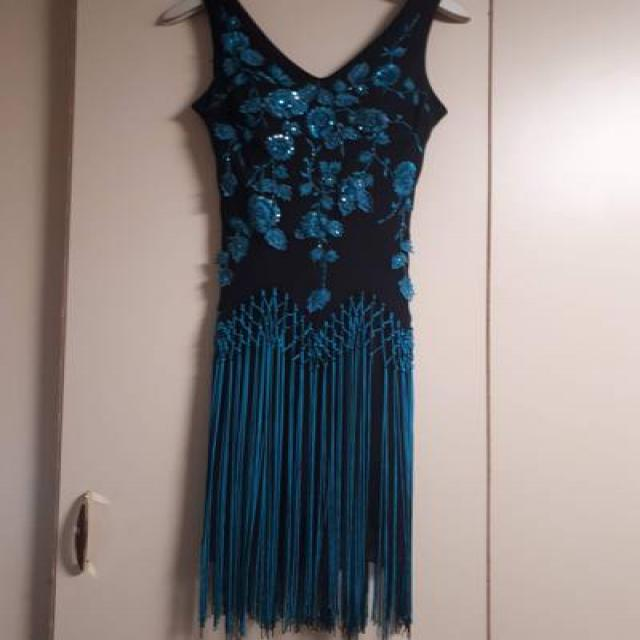Clothes -Biodegradable-: (182, 0, 454, 636)
